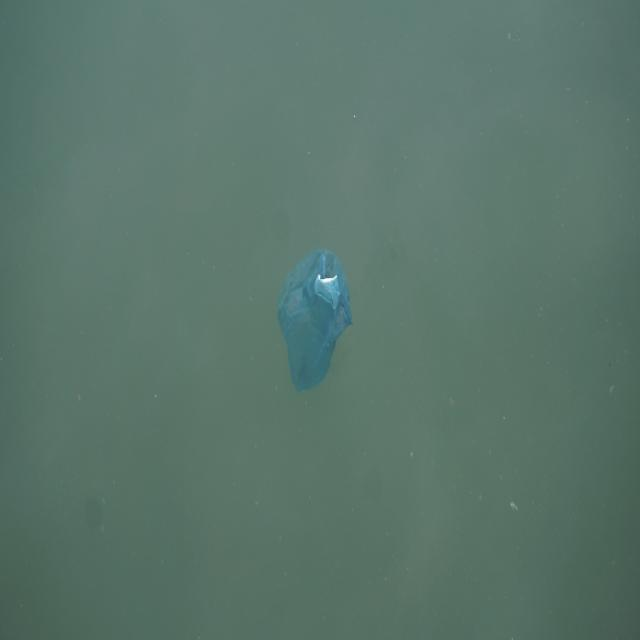Kantong Plastik: (276, 242, 354, 388)
